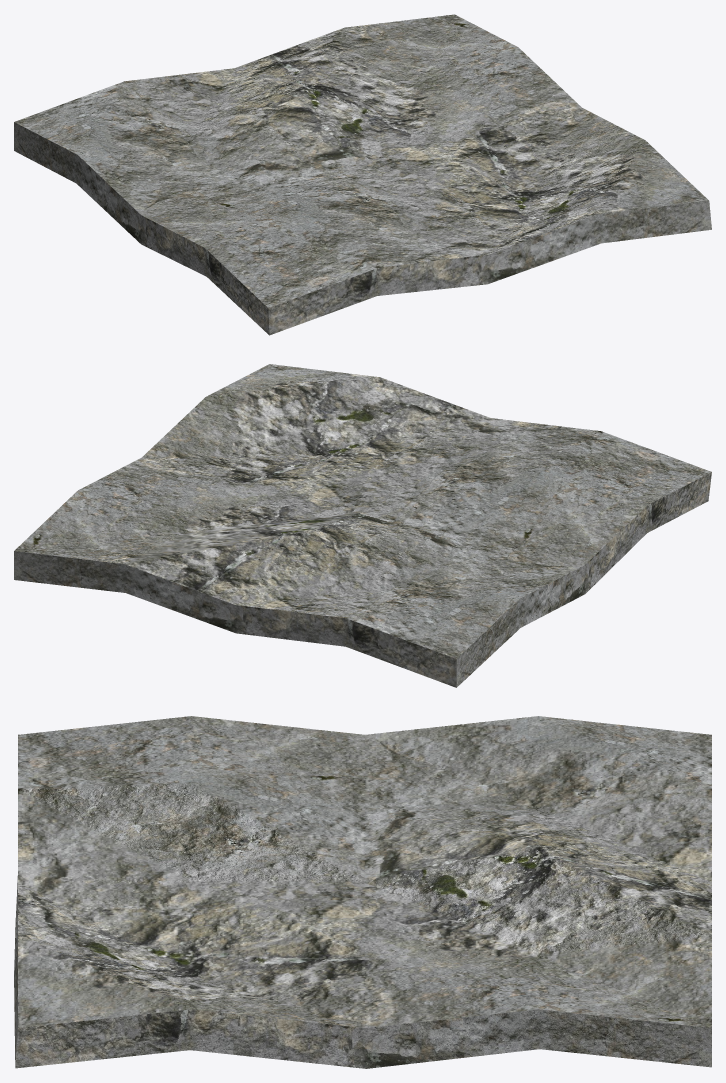
Rendered from UWFloor.fbx.
The picture shows the model from 3 angles, top to bottom: view 1: azimuth 30°, elevation 25°; view 2: azimuth 150°, elevation 25°; view 3: azimuth 270°, elevation 25°; orthographic projection. The views are drawn at different scales.
Visible parts, largest first — view 1: UWFloor; view 2: UWFloor; view 3: UWFloor.
Boxes of the visible parts, bbox=[...] form: UWFloor: bbox=[14, 14, 711, 335]; UWFloor: bbox=[14, 364, 711, 687]; UWFloor: bbox=[14, 716, 711, 1068].
Bounding box in the file's own units: 806 × 117 × 805.
